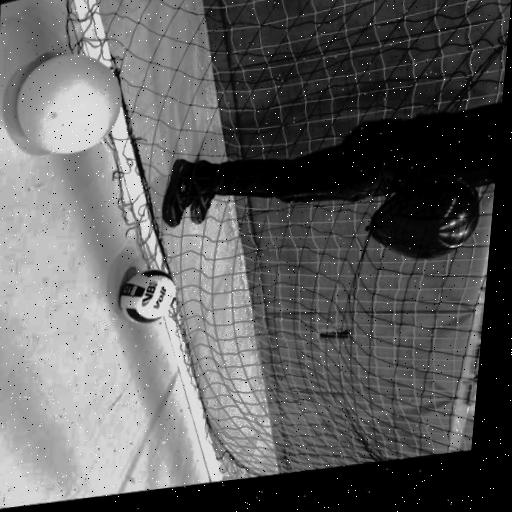balloon: (9, 52, 124, 161), (362, 180, 483, 277)
